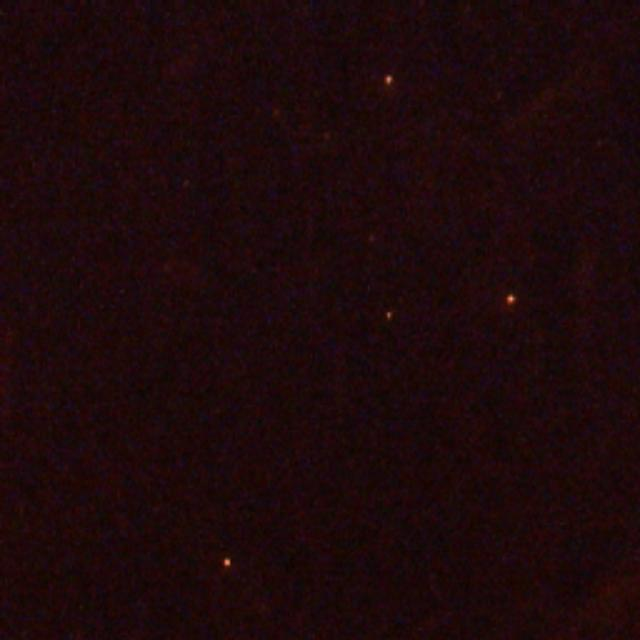Fragment: (502, 290, 520, 308), (386, 310, 398, 328), (383, 72, 395, 90), (220, 558, 236, 570)
